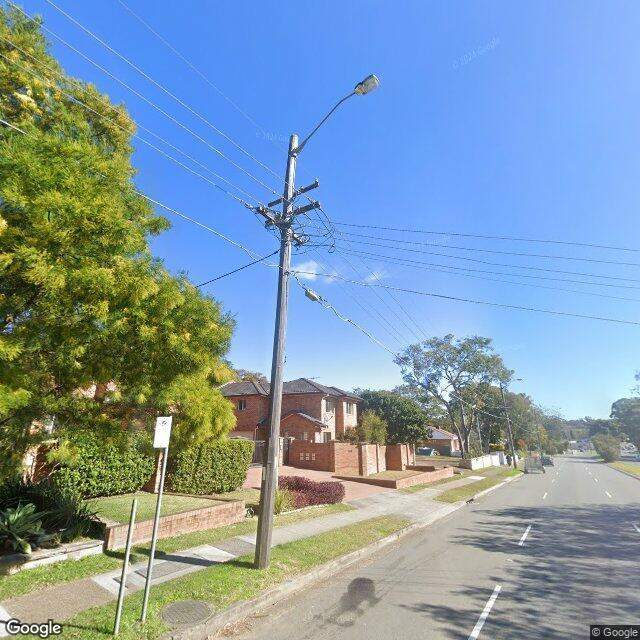crossarm: (258, 207, 304, 244), (263, 202, 320, 229), (266, 180, 320, 208)
streetlight: (295, 74, 380, 156), (503, 378, 523, 389)
timber-pole: (256, 133, 298, 569), (500, 382, 517, 469)
